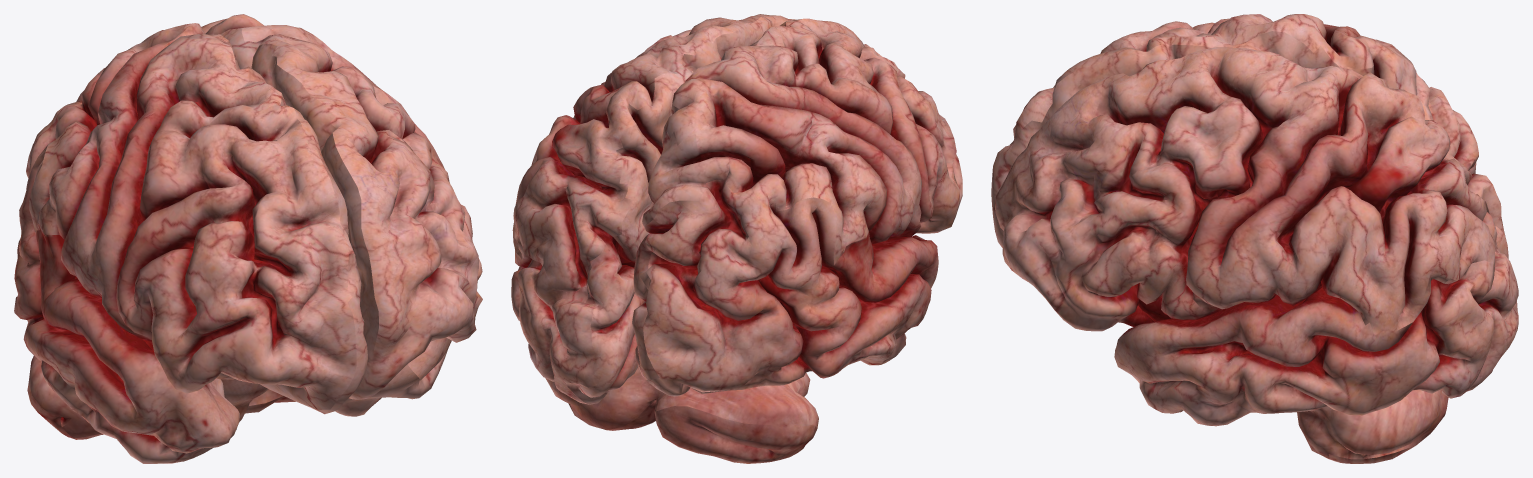
File: Adam_Brain.dae
3 renders of one model, left to right at view 1: azimuth 30°, elevation 25°; view 2: azimuth 150°, elevation 25°; view 3: azimuth 270°, elevation 25°, orthographic. The views are drawn at different scales.
Visible parts, largest first — view 1: 0.003; view 2: 0.003; view 3: 0.003.
Part boxes in pixels (x1,y1,x2,y2): 0.003: [14, 14, 482, 463]; 0.003: [511, 14, 962, 463]; 0.003: [991, 14, 1518, 463].
Bounding box in the file's own units: 4.39 × 5.31 × 4.28.
1 material, 1 textured.
